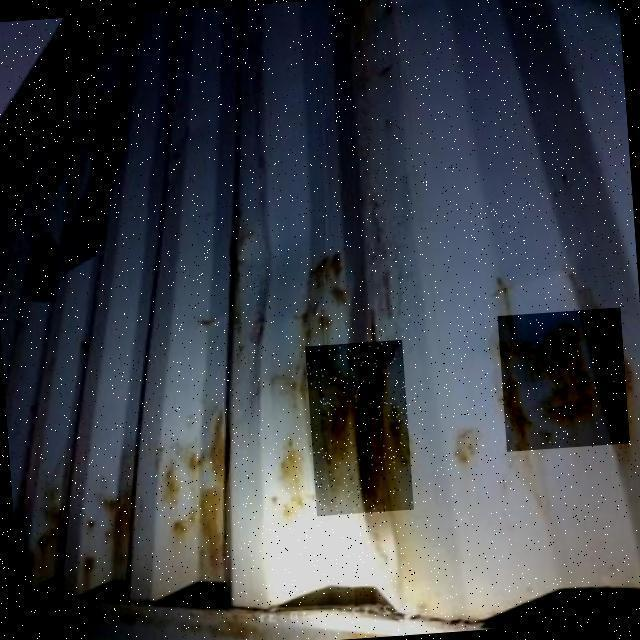rust: (306, 341, 415, 519), (498, 308, 630, 452)
